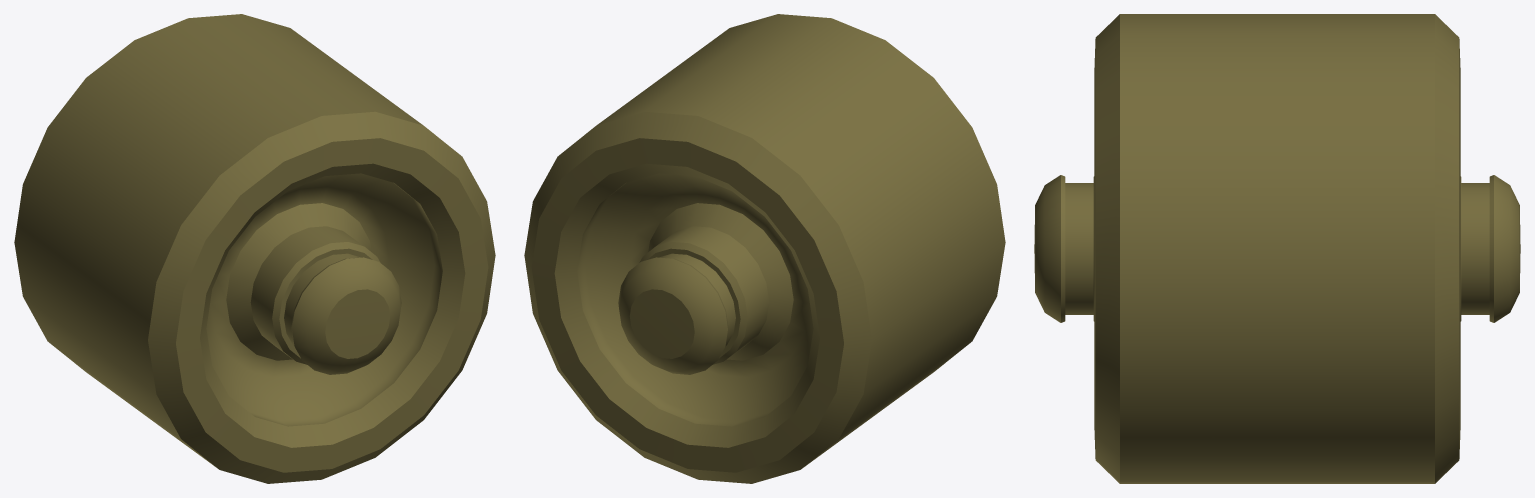
The model's file is Large_Cylinder_Obstacle_Mesh_01.fbx.
3 renders of one model, left to right at view 1: azimuth 30°, elevation 25°; view 2: azimuth 150°, elevation 25°; view 3: azimuth 270°, elevation 25°, orthographic. The views are drawn at different scales.
Visible parts, largest first — view 1: Large_Cylinder_Obstacle; view 2: Large_Cylinder_Obstacle; view 3: Large_Cylinder_Obstacle.
Boxes of the visible parts, x1,y1,x2,y2 form: Large_Cylinder_Obstacle: (14, 14, 495, 483); Large_Cylinder_Obstacle: (524, 14, 1005, 483); Large_Cylinder_Obstacle: (1034, 14, 1520, 483).
Size of the model in its own units: 48 by 48 by 49.28.
